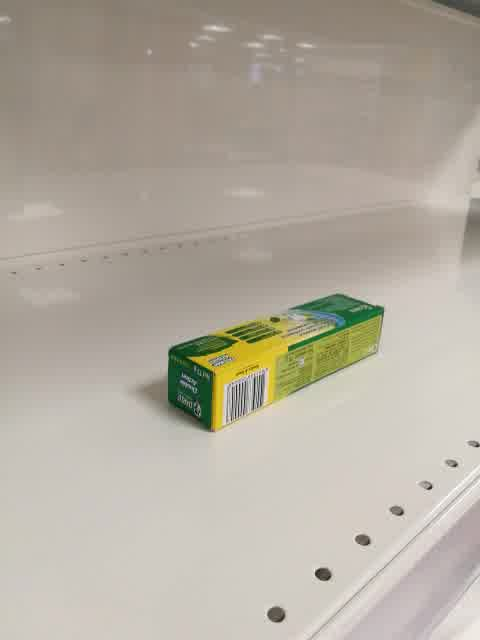toothpaste: (166, 292, 384, 434)
